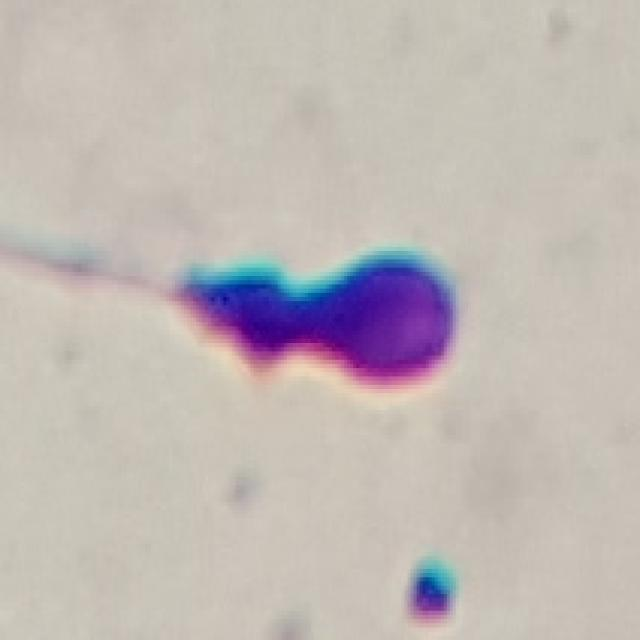abnormal sperm: (33, 136, 477, 432)
